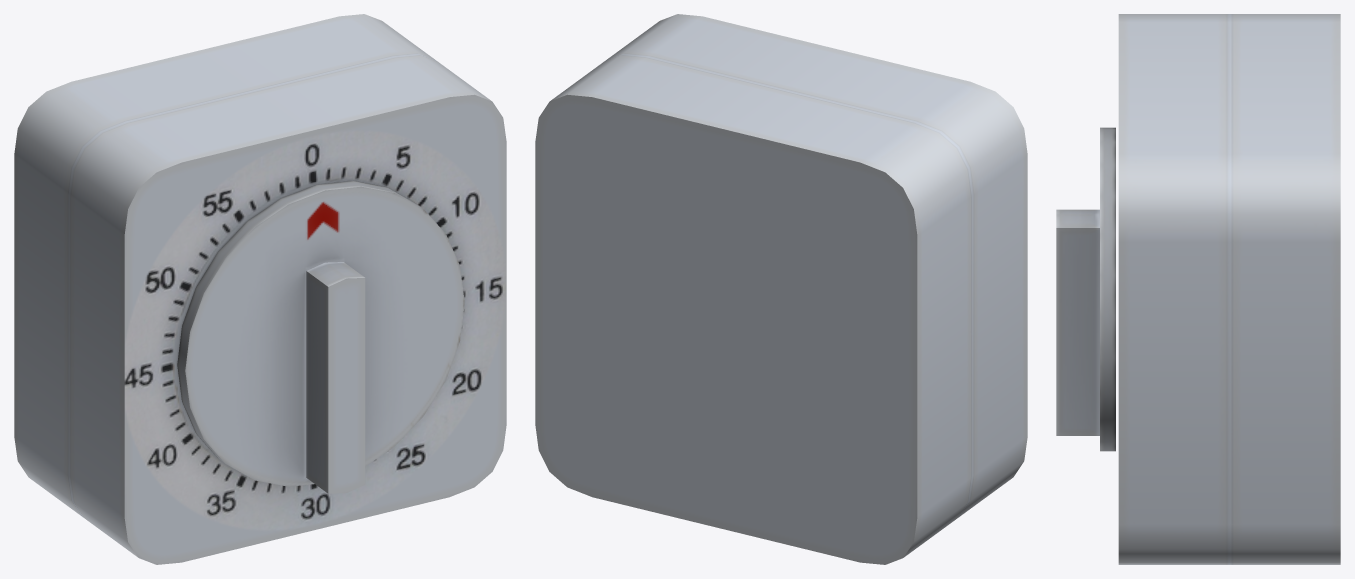
Rendered from Kitchen_timer.fbx.
The picture shows the model from 3 angles, left to right: view 1: azimuth 30°, elevation 25°; view 2: azimuth 150°, elevation 25°; view 3: azimuth 270°, elevation 25°; orthographic projection.
Parts seen in each view (by area): view 1: Timer_001; view 2: Timer_001; view 3: Timer_001.
Boxes of the visible parts, box(x1,y1,x2,y2) form: Timer_001: box(14, 14, 506, 564); Timer_001: box(535, 14, 1027, 564); Timer_001: box(1056, 14, 1340, 564).
Size of the model in its own units: 6 by 6 by 3.85.
